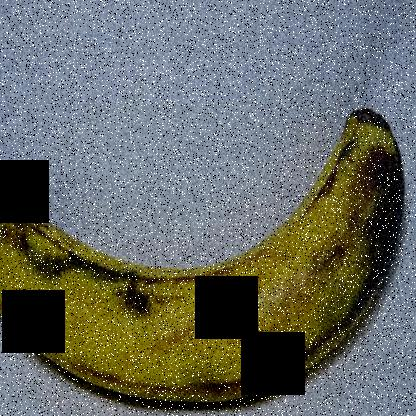ripe: (0, 90, 413, 415)
